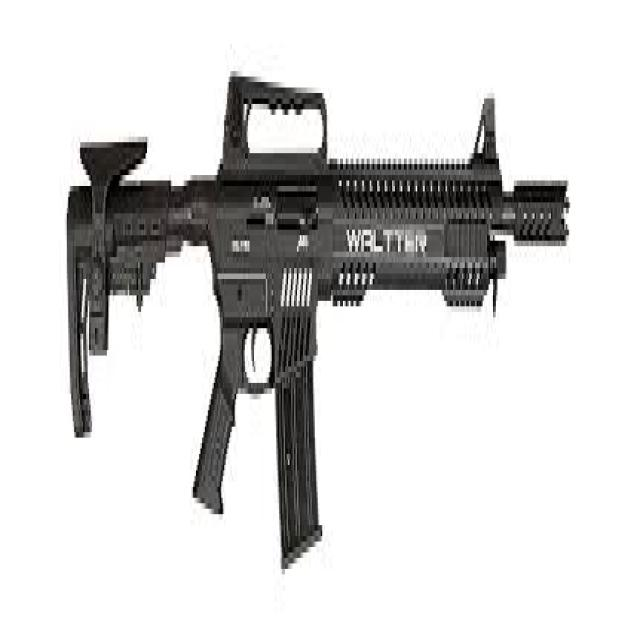rifle: (65, 70, 578, 583)
